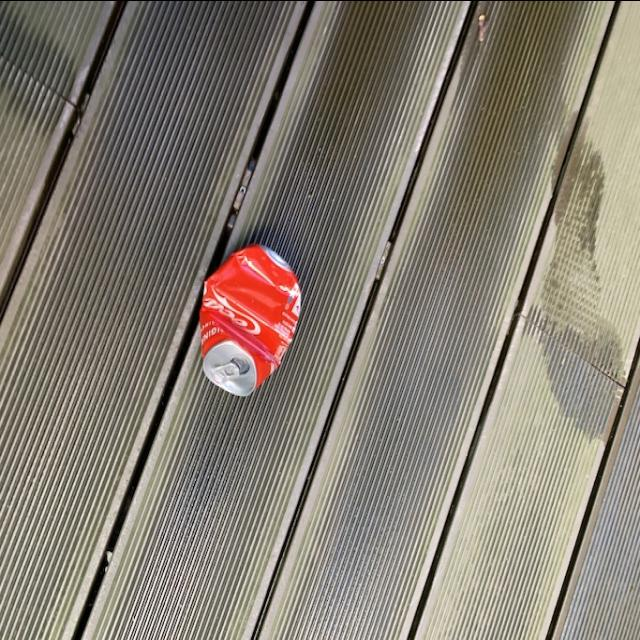Aluminum Can: (192, 237, 306, 403)
